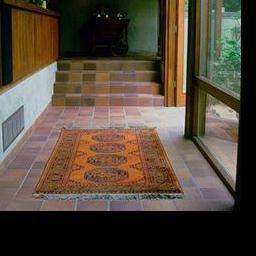Escaleras: (58, 61, 164, 106)
